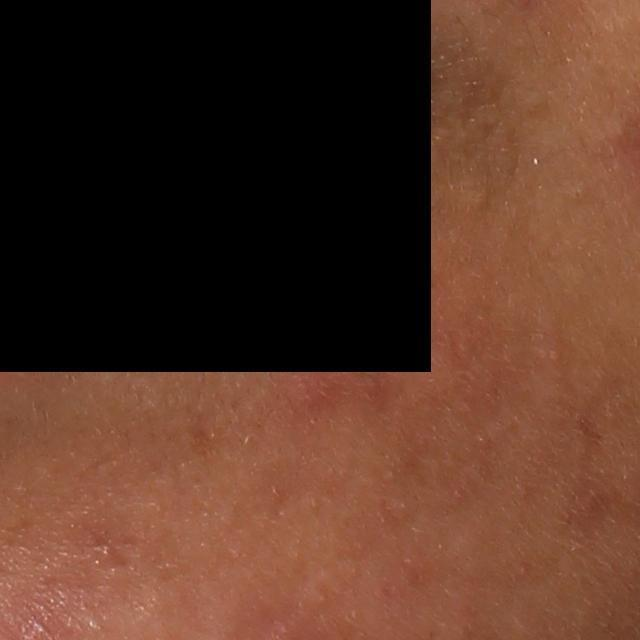comedo: (456, 182, 495, 215), (567, 186, 585, 203)
